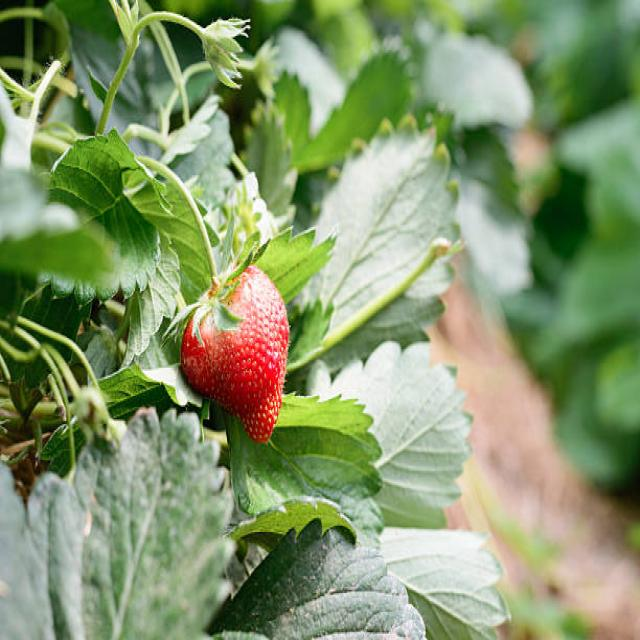Healthy Fruit: (181, 267, 289, 445)
